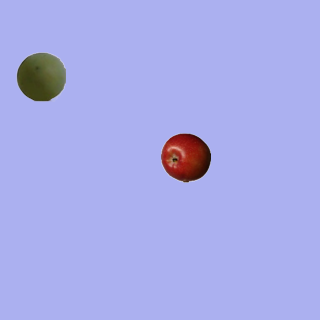Apple Braeburn: (160, 132, 210, 182)
Grape White 4: (15, 51, 65, 101)
